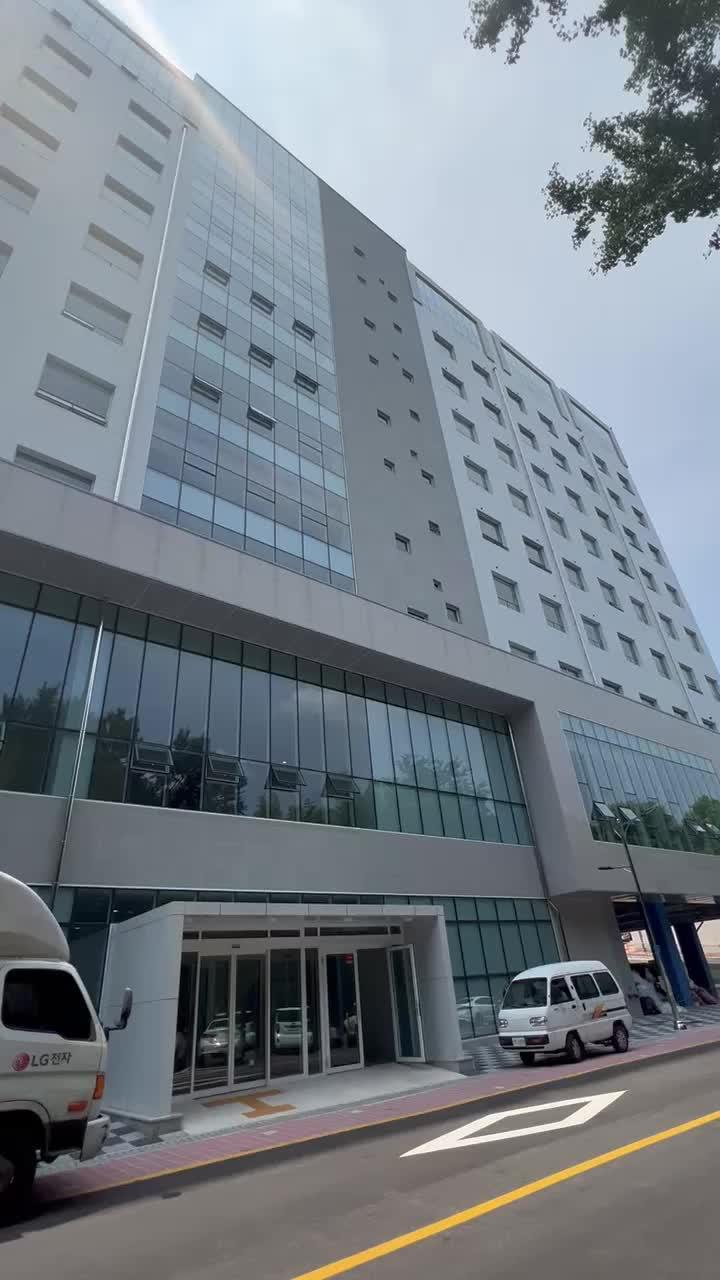building: (0, 58, 698, 894)
